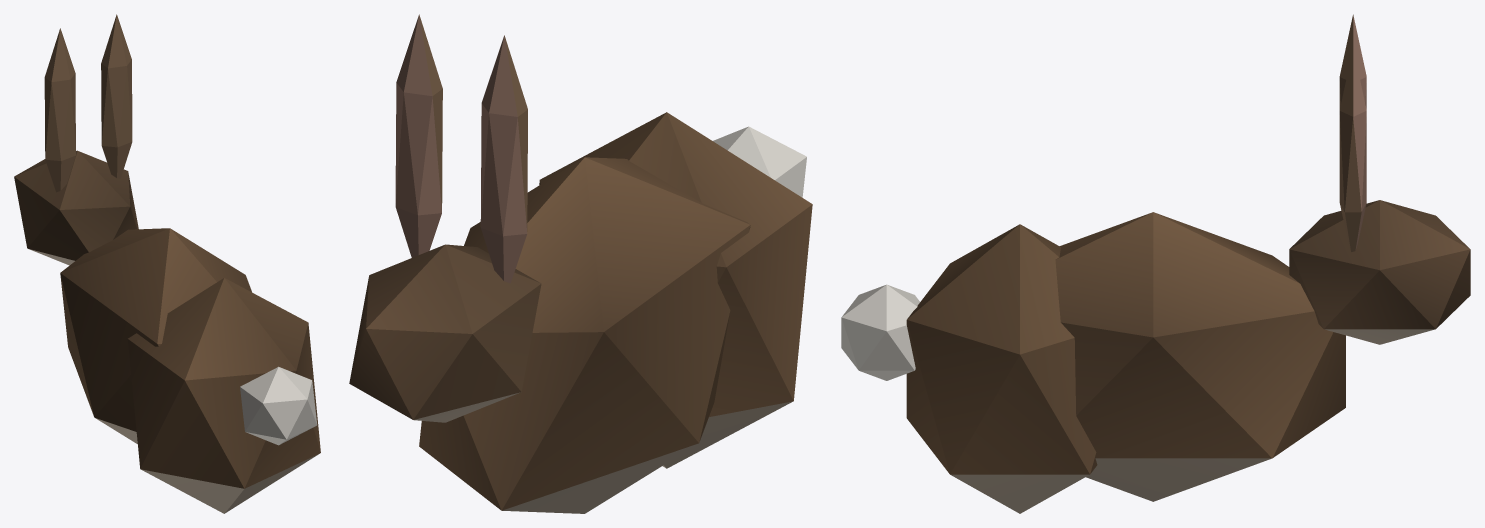
File: rabbit.glb
3 renders of one model, left to right at view 1: azimuth 30°, elevation 25°; view 2: azimuth 150°, elevation 25°; view 3: azimuth 270°, elevation 25°, orthographic. The views are drawn at different scales.
Parts seen in each view (by area): view 1: rabbit; view 2: rabbit; view 3: rabbit.
Part boxes in pixels (x1=…): rabbit: x1=14, y1=14, x2=320, y2=513; rabbit: x1=349, y1=14, x2=812, y2=513; rabbit: x1=841, y1=14, x2=1470, y2=513.
Size of the model in its own units: 0.1789 by 0.4 by 0.4721.
